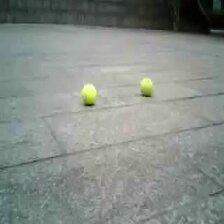tennis: (80, 83, 96, 103), (141, 77, 153, 96)
